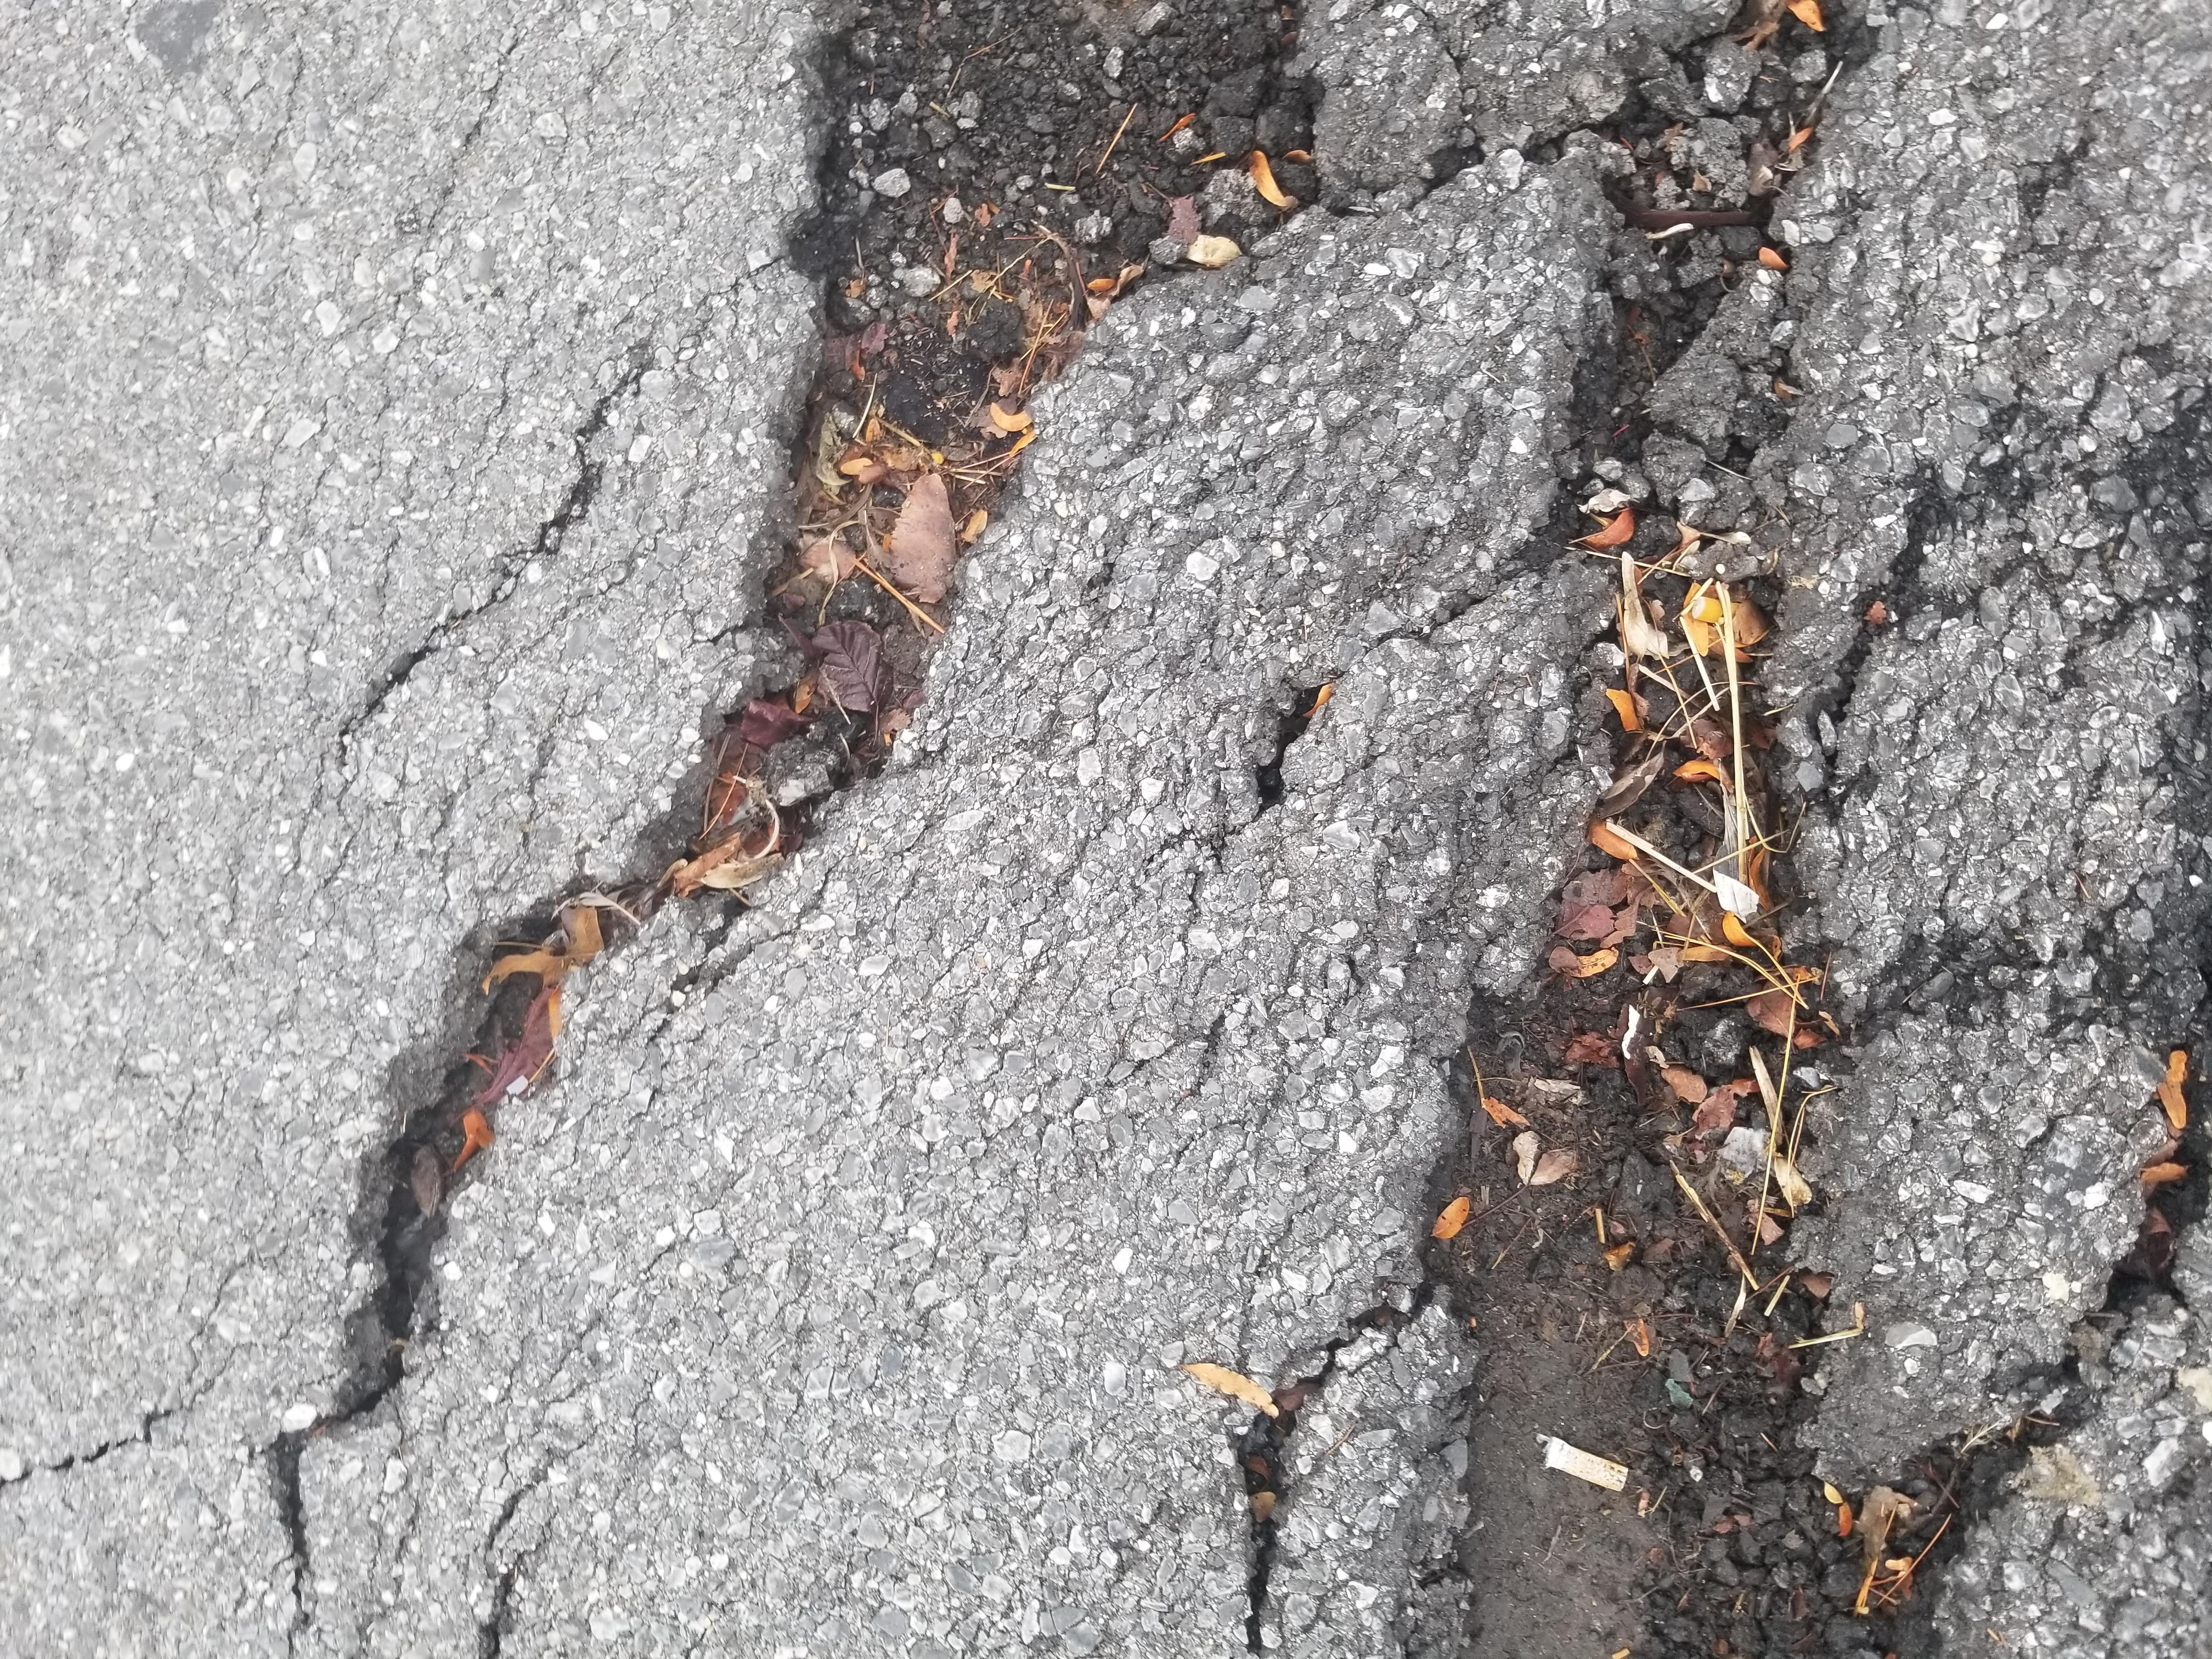crack: (105, 108, 2116, 1619)
